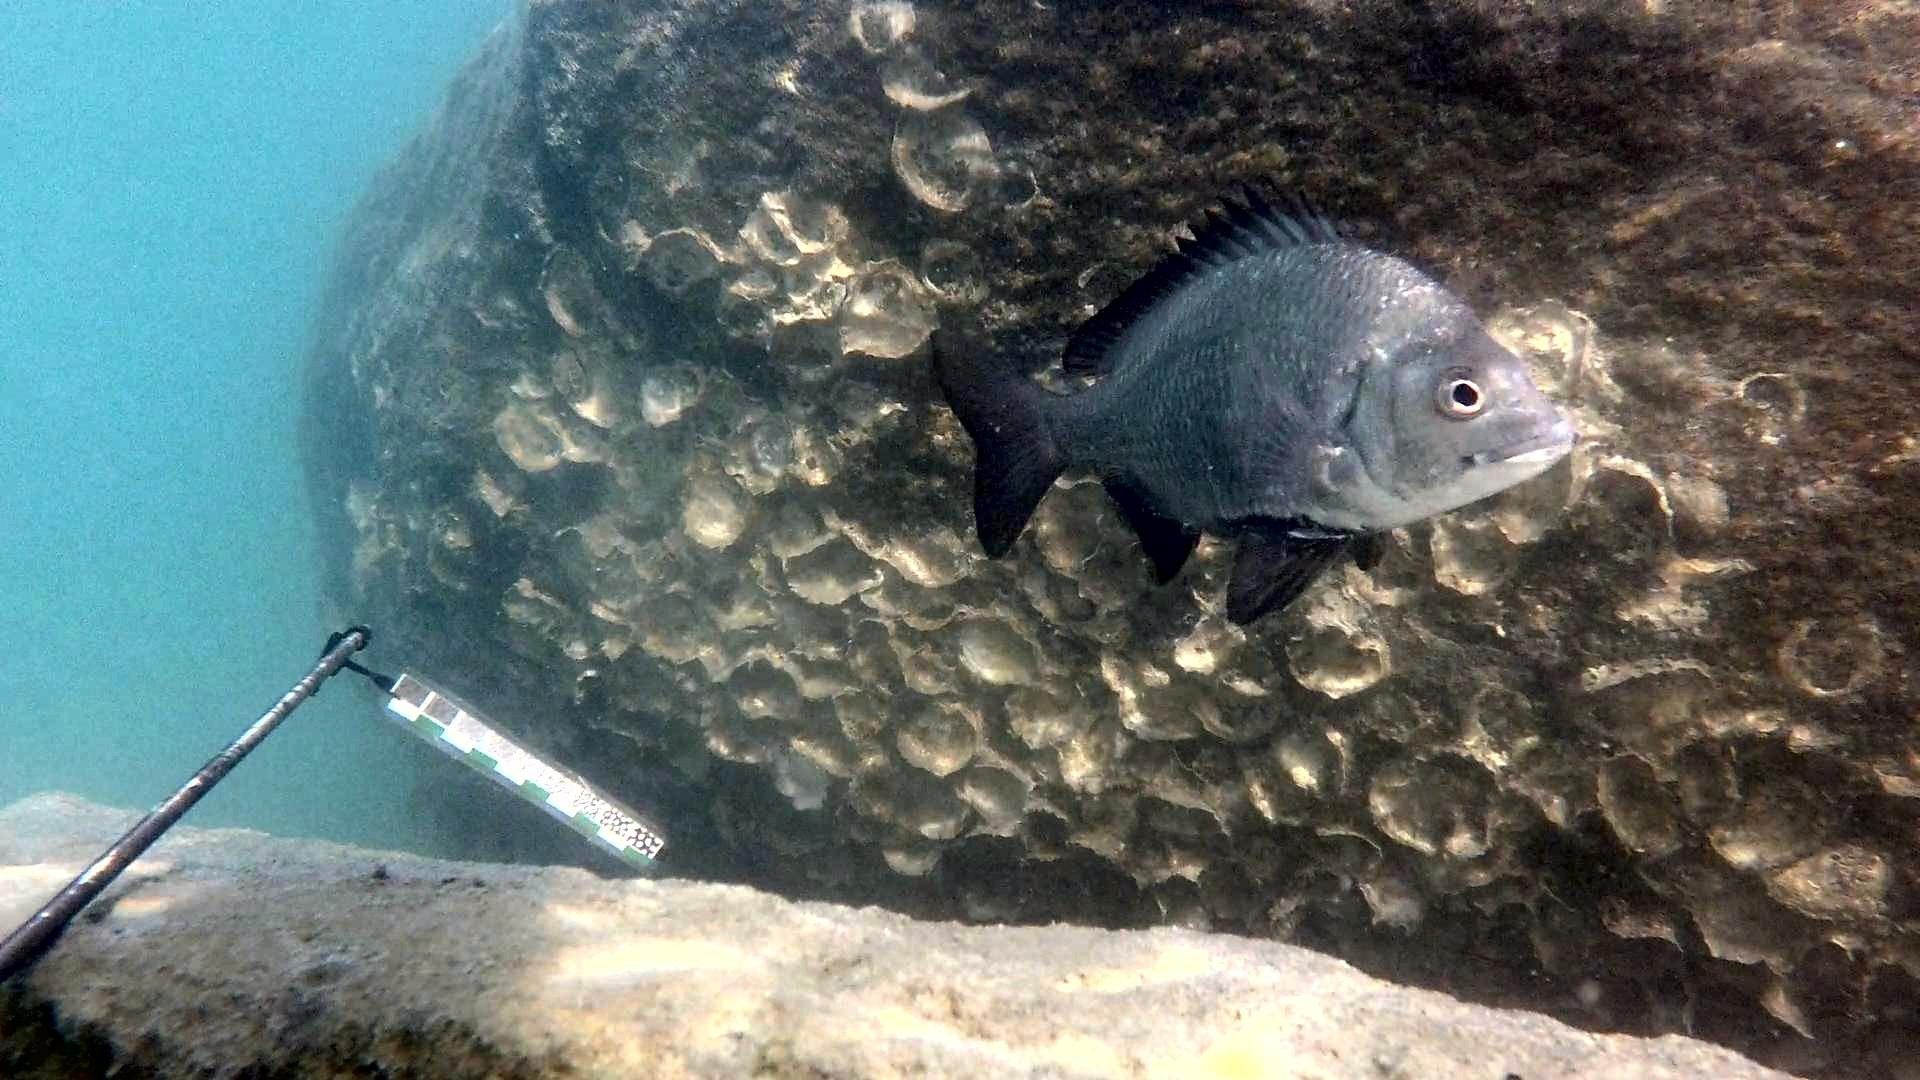acanthopagrus palmaris: (923, 174, 1575, 636)
